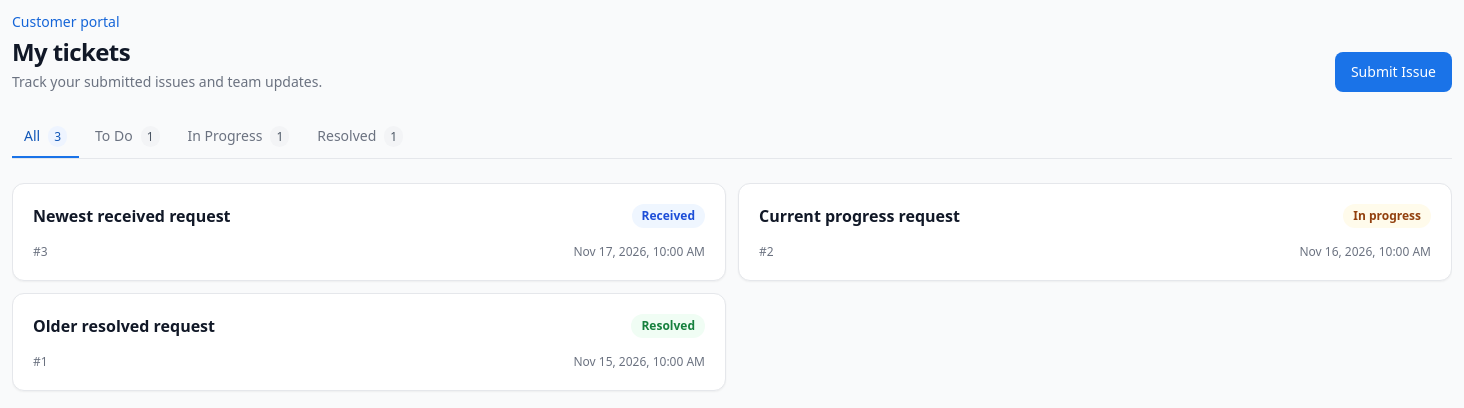
Scenario: MyTicketsPage › shows loading skeletons, newest-first tickets, tab filters, and counts
Later steps or results of the test are not shown.
Check: the tab "All3" is shown, box [12,116,79,158]
Click the tab "In Progress1".
click(238, 137)  # box [176,116,301,158]
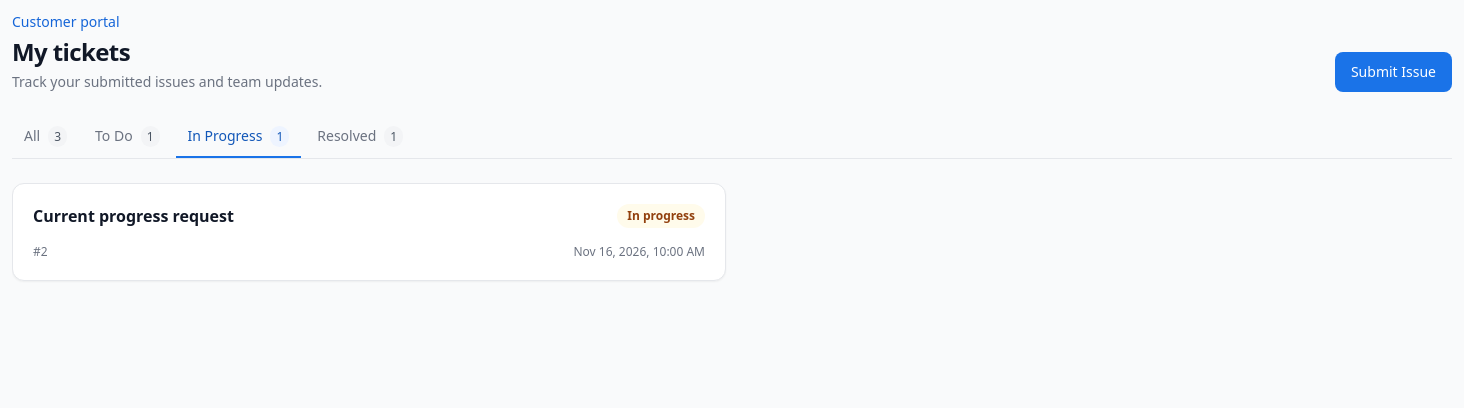
Check: the number of buttons named "Open ticket" is 1, box [12,183,726,281]
